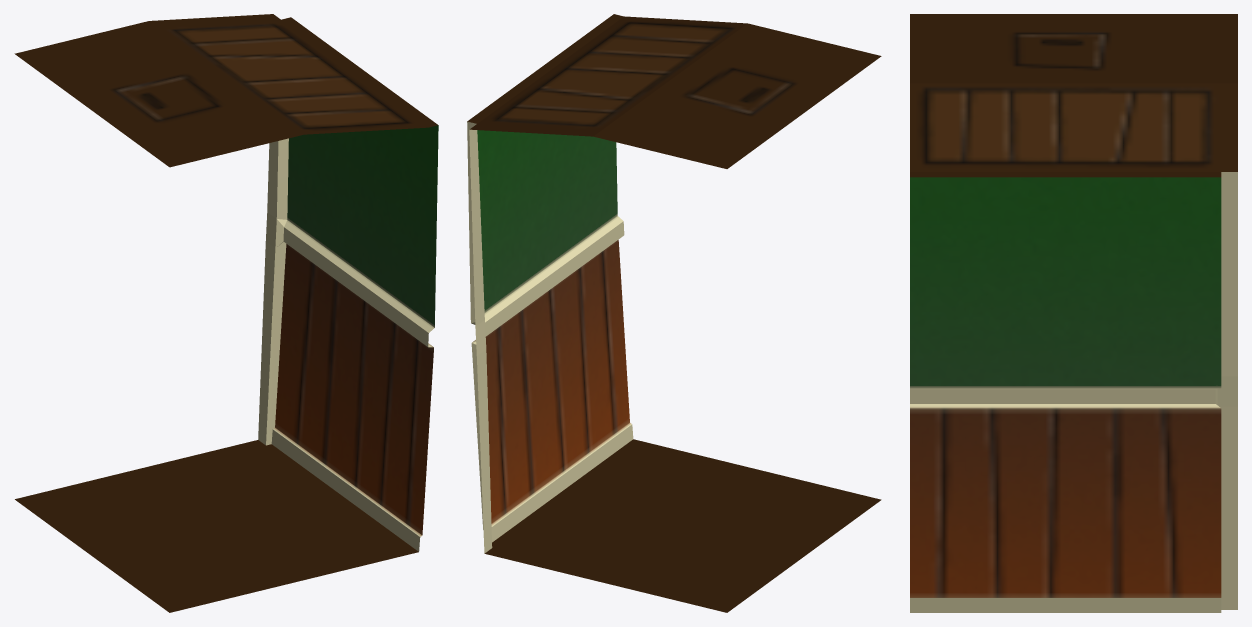
File: Single_Section.fbx
3 renders of one model, left to right at view 1: azimuth 30°, elevation 25°; view 2: azimuth 150°, elevation 25°; view 3: azimuth 270°, elevation 25°, orthographic. The views are drawn at different scales.
Parts seen in each view (by area): view 1: Single_Section; view 2: Single_Section; view 3: Single_Section.
Part boxes in pixels (x1,y1,x2,y2): Single_Section: (14,14,438,612); Single_Section: (467,14,881,612); Single_Section: (910,14,1237,612).
Bounding box in the file's own units: 2 × 3.17 × 2.
